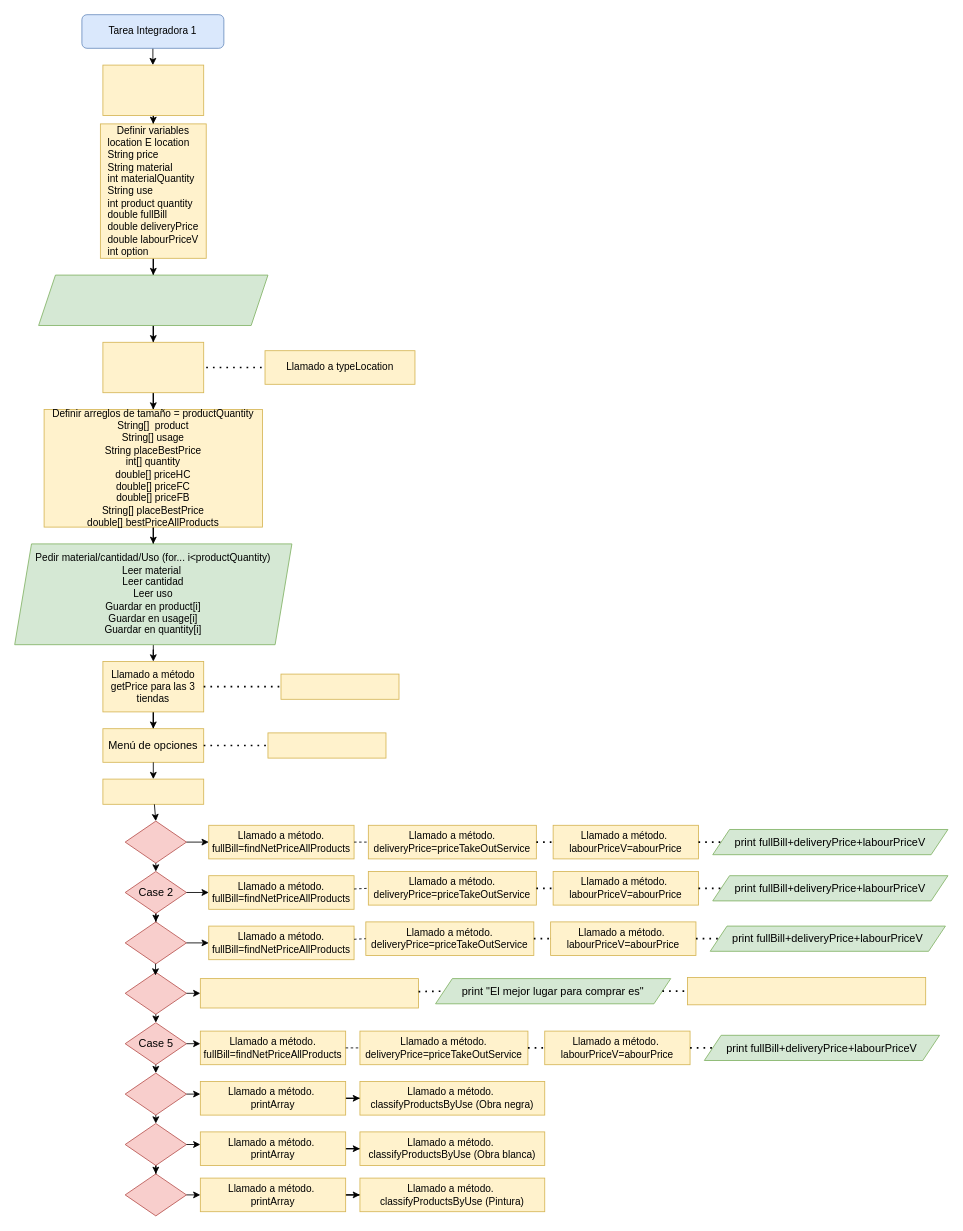
This 963x1231 diagram has some shape labels left out. The centre of each missing label's shape, as x and y in pixels:
Case 1: point (155, 841)
Case 3: point (155, 942)
Case 4: point (155, 992)
Case 6: point (155, 1093)
Case 7: point (155, 1144)
Case 8: point (155, 1194)
Definir constantes BLACK=1300000 WHITE=2600000 PAINT=980000: point (153, 90)
do (mostrar opciones) while (option!=0): point (326, 745)
Llamado a getPrice (x3): point (339, 686)
Llamado a método bestPriceAllProducts=bestPlacetoBuyAndPrice: point (806, 991)
Llamado a método placeBestPrice=findPlaceBestPrice: point (309, 993)
Llamado a método typeLocation: point (153, 367)
Pedir cantidad total de productos a ingresar productQuantity: point (153, 300)
switch option: point (153, 791)
